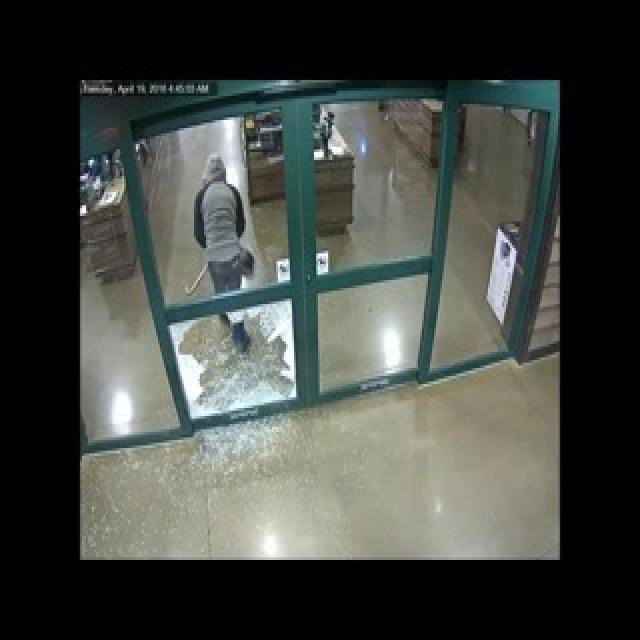thief: (186, 160, 264, 332)
